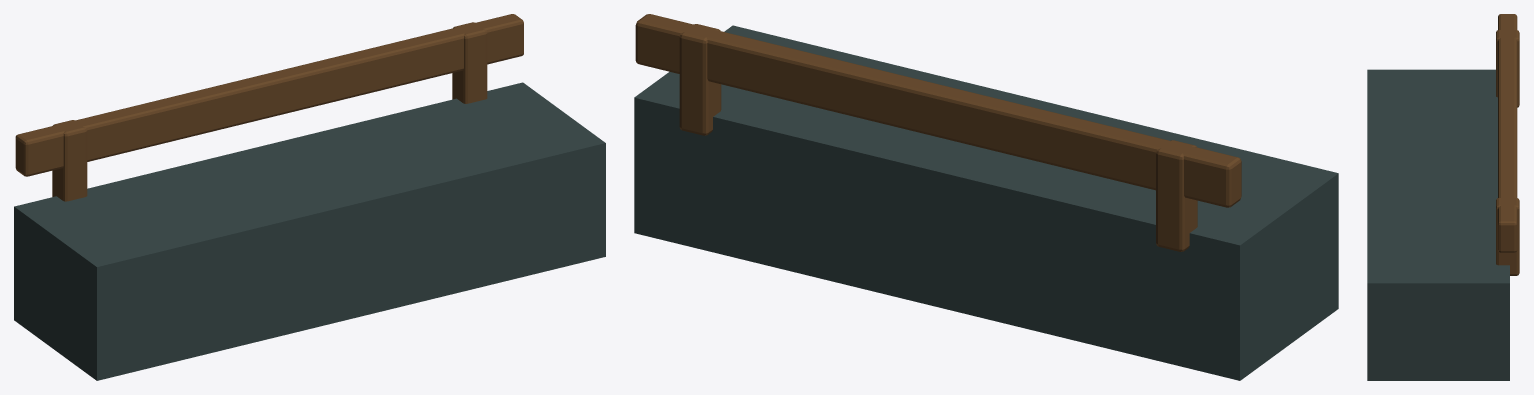
Rendered from env-bench-a.glb.
3 views of the same model, side by side, from view 1: azimuth 30°, elevation 25°; view 2: azimuth 150°, elevation 25°; view 3: azimuth 270°, elevation 25° (orthographic). The views are drawn at different scales.
Visible parts, largest first — view 1: COL_bench, VIS_backrail, VIS_backpost_w, VIS_backpost_e; view 2: COL_bench, VIS_backrail, VIS_backpost_e, VIS_backpost_w; view 3: COL_bench, VIS_backrail, VIS_backpost_e, VIS_backpost_w.
Boxes of the visible parts, <box> form: COL_bench: <box>14,82,605,380</box>; VIS_backrail: <box>15,14,523,176</box>; VIS_backpost_w: <box>52,120,87,201</box>; VIS_backpost_e: <box>452,22,487,103</box>; COL_bench: <box>634,25,1338,380</box>; VIS_backrail: <box>635,14,1241,207</box>; VIS_backpost_e: <box>679,24,721,135</box>; VIS_backpost_w: <box>1156,140,1197,251</box>; COL_bench: <box>1367,69,1509,380</box>; VIS_backrail: <box>1498,14,1517,252</box>; VIS_backpost_e: <box>1496,198,1519,275</box>; VIS_backpost_w: <box>1496,30,1519,107</box>.
Size of the model in its own units: 2.34 by 0.8 by 0.705.
